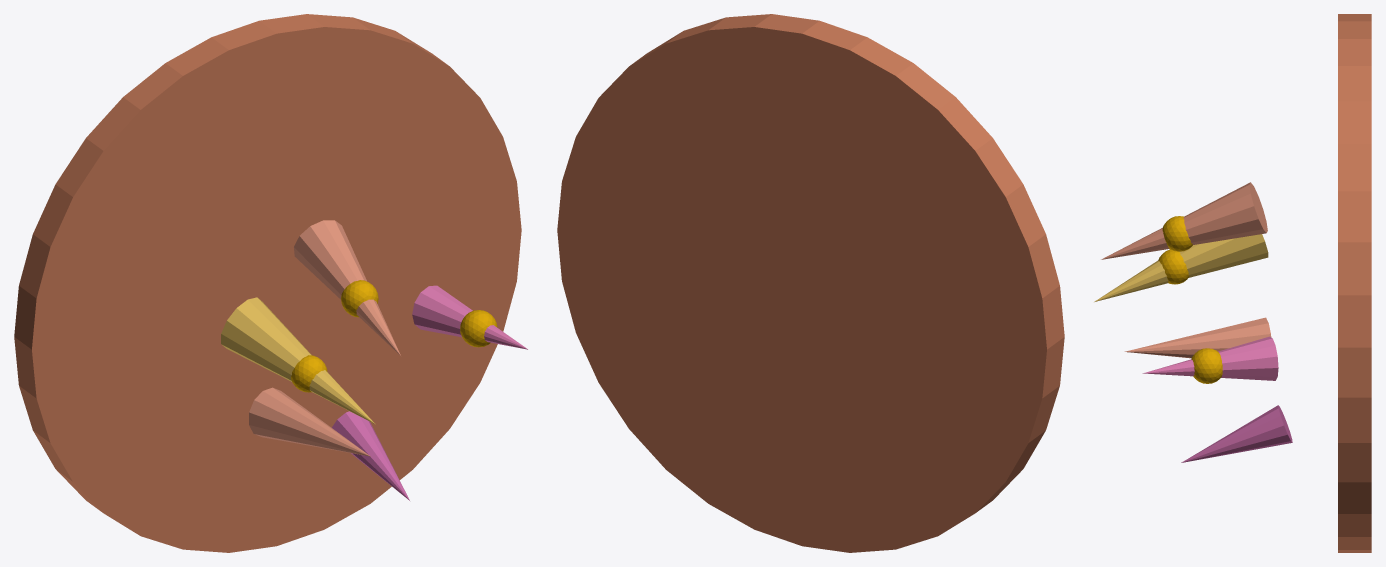
The model's file is coral_reef.glb.
3 renders of one model, left to right at view 1: azimuth 30°, elevation 25°; view 2: azimuth 150°, elevation 25°; view 3: azimuth 270°, elevation 25°, orthographic. The views are drawn at different scales.
Visible parts, largest first — view 1: coral_part_0, coral_part_3, coral_part_1, coral_part_5, coral_part_2, coral_part_4, coral_part_7, coral_part_6, coral_part_8; view 2: coral_part_0; view 3: coral_part_0, coral_part_1, coral_part_3, coral_part_2, coral_part_5, coral_part_4, coral_part_7, coral_part_6, coral_part_8.
Part boxes in pixels (x1=…): coral_part_0: x1=14, y1=14, x2=521, y2=552; coral_part_3: x1=221, y1=297, x2=375, y2=424; coral_part_1: x1=294, y1=220, x2=400, y2=355; coral_part_5: x1=249, y1=387, x2=370, y2=456; coral_part_2: x1=412, y1=285, x2=527, y2=349; coral_part_4: x1=332, y1=411, x2=409, y2=500; coral_part_7: x1=460, y1=310, x2=497, y2=347; coral_part_6: x1=341, y1=280, x2=378, y2=317; coral_part_8: x1=291, y1=355, x2=327, y2=392; coral_part_0: x1=557, y1=14, x2=1064, y2=552; coral_part_0: x1=1338, y1=14, x2=1371, y2=552; coral_part_1: x1=1101, y1=182, x2=1267, y2=259; coral_part_3: x1=1094, y1=234, x2=1268, y2=301; coral_part_2: x1=1142, y1=336, x2=1278, y2=380; coral_part_5: x1=1124, y1=317, x2=1271, y2=358; coral_part_4: x1=1181, y1=405, x2=1292, y2=462; coral_part_7: x1=1191, y1=348, x2=1222, y2=383; coral_part_6: x1=1162, y1=216, x2=1192, y2=251; coral_part_8: x1=1158, y1=249, x2=1189, y2=284.
Bounding box in the file's own units: 2.4 × 2.4 × 1.24.
